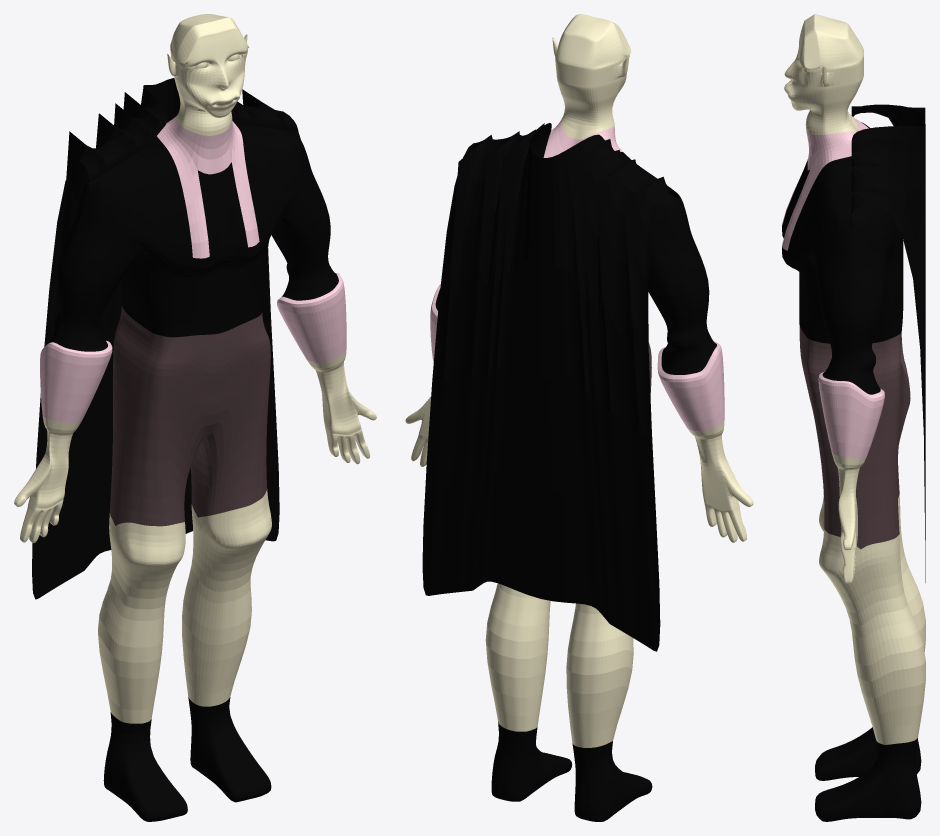
File: priest.fbx
3 views of the same model, side by side, from view 1: azimuth 30°, elevation 25°; view 2: azimuth 150°, elevation 25°; view 3: azimuth 270°, elevation 25° (orthographic). The views are drawn at different scales.
Parts seen in each view (by area): view 1: Plane.002; view 2: Plane.002; view 3: Plane.002.
Part boxes in pixels (x1,y1,x2,y2): Plane.002: (14, 14, 376, 821); Plane.002: (405, 14, 753, 821); Plane.002: (782, 14, 925, 821).
Size of the model in its own units: 85.99 by 30.43 by 180.
